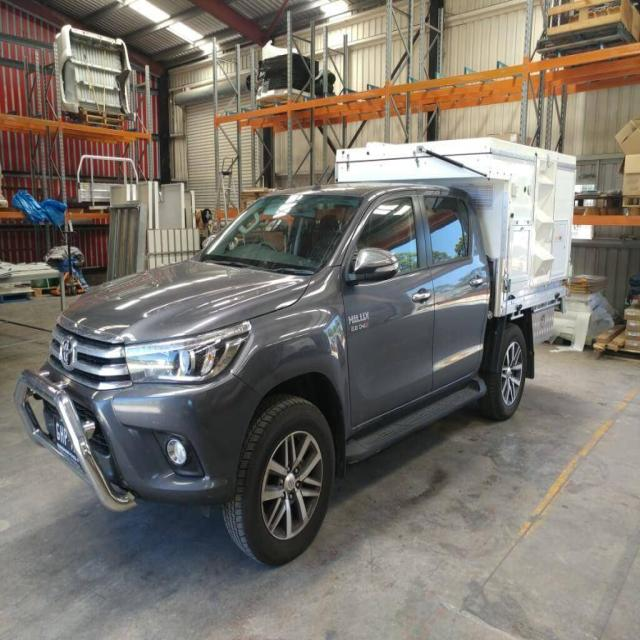light_vehicle: (18, 112, 588, 568)
